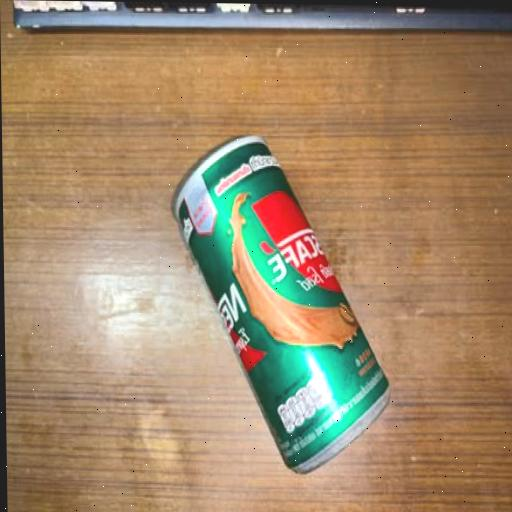canned: (162, 109, 401, 495)
